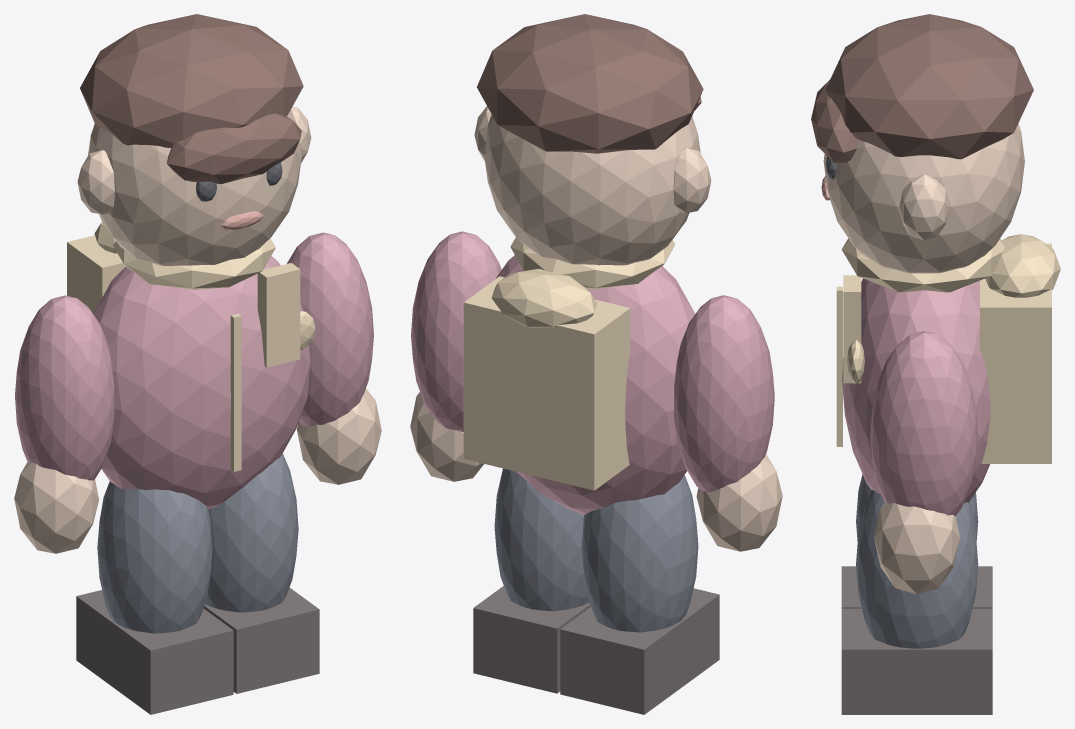
File: witness_08.glb
The picture shows the model from 3 angles, left to right: view 1: azimuth 30°, elevation 25°; view 2: azimuth 150°, elevation 25°; view 3: azimuth 270°, elevation 25°; orthographic projection.
Parts seen in each view (by area): view 1: torso, hair_cap, head, left_upper_arm, left_leg, left_boot, right_upper_arm, right_leg, right_boot, hair_fringe, left_hand, right_hand (+5 smaller); view 2: backpack, hair_cap, head, left_upper_arm, torso, left_leg, left_boot, right_upper_arm, right_leg, right_boot, left_hand, backpack_roll (+3 smaller); view 3: hair_cap, head, right_upper_arm, right_boot, torso, backpack, right_leg, right_hand, backpack_roll, scarf_wrap, right_ear, hair_fringe (+5 smaller).
Boxes of the visible parts, x1,y1,x2,y2 form: torso: (93,256,310,509); hair_cap: (80,14,303,148); head: (88,109,301,265); left_upper_arm: (15,295,114,480); left_leg: (97,481,212,633); left_boot: (76,590,233,714); right_upper_arm: (287,232,373,426); right_leg: (205,453,298,612); right_boot: (203,587,319,693); hair_fringe: (167,113,301,184); left_hand: (14,462,99,553); right_hand: (296,388,381,484); backpack: (463,276,630,490); hair_cap: (477,14,703,153); head: (484,115,700,265); left_upper_arm: (674,295,774,492); torso: (496,255,695,514); left_leg: (581,475,698,632); left_boot: (560,588,719,714); right_upper_arm: (411,231,501,431); right_leg: (494,468,588,611); right_boot: (473,586,590,693); left_hand: (696,454,782,551); backpack_roll: (491,268,596,327); hair_cap: (825,14,1033,159); head: (823,123,1024,273); right_upper_arm: (870,331,978,515); right_boot: (841,608,992,714); torso: (842,278,990,502); backpack: (980,243,1051,463); right_leg: (856,490,978,648); right_hand: (874,502,960,594); backpack_roll: (985,234,1060,297); scarf_wrap: (841,238,1004,292); right_ear: (899,174,949,240); hair_fringe: (811,80,857,163).
Size of the model in its own units: 1.16 by 1.97 by 0.695.
